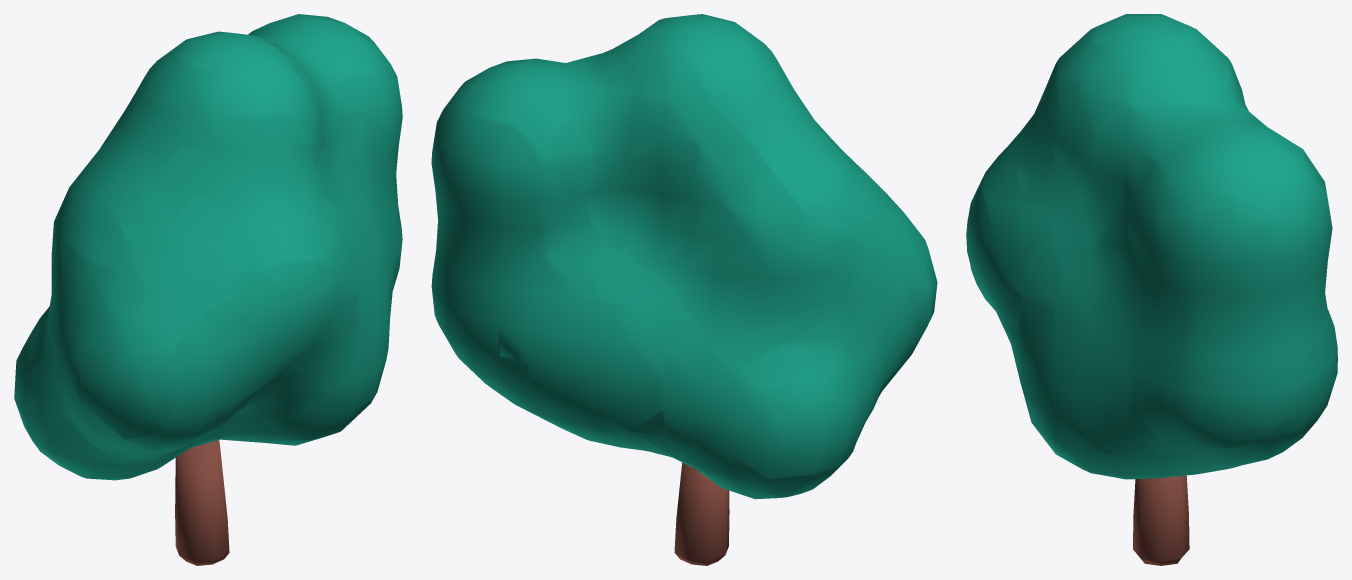
File: Bush.fbx
3 views of the same model, side by side, from view 1: azimuth 30°, elevation 25°; view 2: azimuth 150°, elevation 25°; view 3: azimuth 270°, elevation 25° (orthographic). The views are drawn at different scales.
Parts seen in each view (by area): view 1: Mball.001; view 2: Mball.001; view 3: Mball.001.
Part boxes in pixels (x1,y1,x2,y2): Mball.001: (14,14,402,565); Mball.001: (431,14,937,565); Mball.001: (966,14,1337,565).
Bounding box in the file's own units: 299 × 374 × 232.
